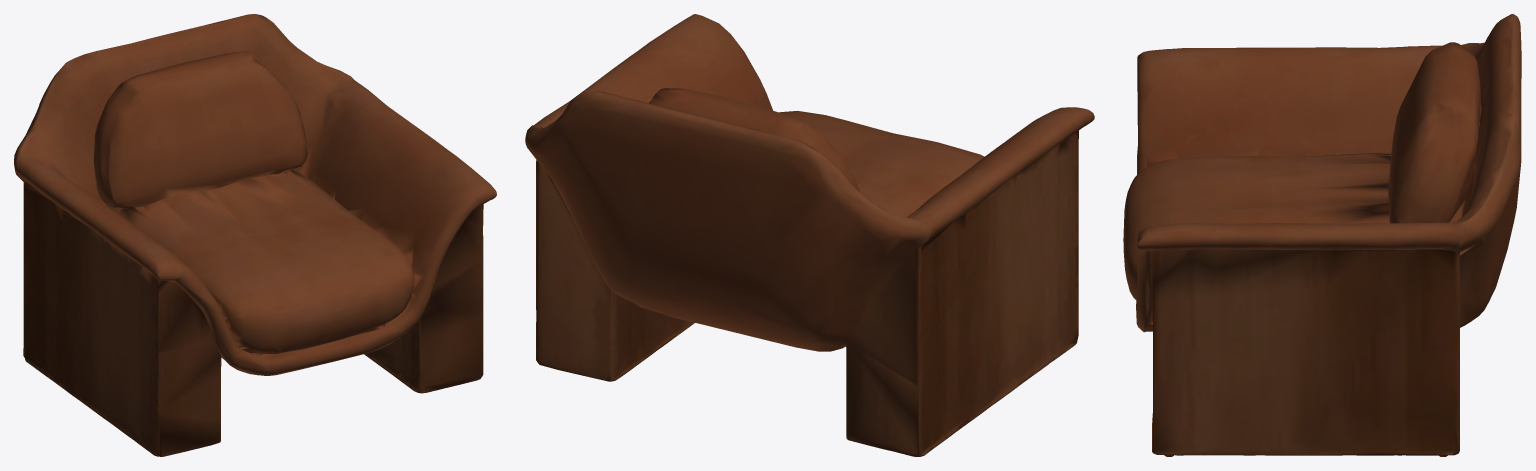
The model's file is AVs74Vp21GC8U9GV9eEcO.glb.
3 views of the same model, side by side, from view 1: azimuth 30°, elevation 25°; view 2: azimuth 150°, elevation 25°; view 3: azimuth 270°, elevation 25° (orthographic). The views are drawn at different scales.
Parts seen in each view (by area): view 1: geometry_0; view 2: geometry_0; view 3: geometry_0.
Boxes of the visible parts, x1,y1,x2,y2 form: geometry_0: (14, 14, 496, 456); geometry_0: (525, 14, 1094, 456); geometry_0: (1123, 14, 1521, 456).
Size of the model in its own units: 1 by 0.7594 by 0.8893.
Materials: 1 (1 with a texture image).
